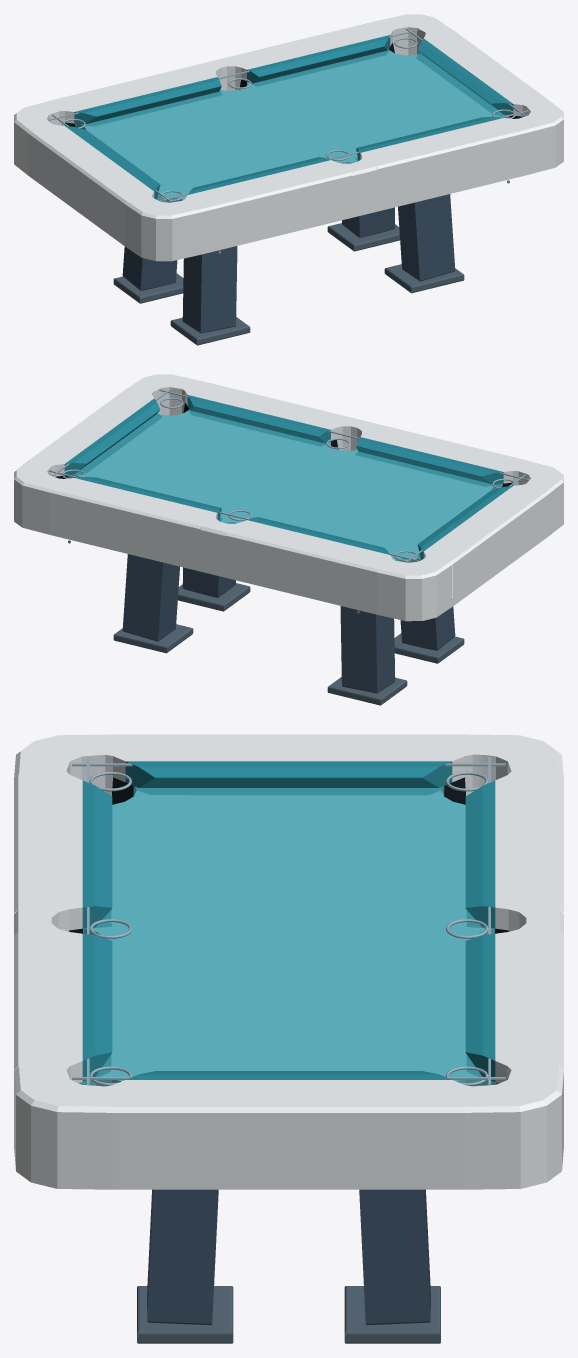
The model's file is table-eightball-5-chinese-ivory.glb.
3 views of the same model, one above another, from view 1: azimuth 30°, elevation 25°; view 2: azimuth 150°, elevation 25°; view 3: azimuth 270°, elevation 25° (orthographic). The views are drawn at different scales.
Parts seen in each view (by area): view 1: table-eightball-5-chinese-ivory, break-builder-table-support, chinese-steel-cushion-details; view 2: table-eightball-5-chinese-ivory, break-builder-table-support, chinese-steel-cushion-details; view 3: table-eightball-5-chinese-ivory, break-builder-table-support, chinese-steel-cushion-details.
Part boxes in pixels (box(x1,y1,x2,y2)): table-eightball-5-chinese-ivory: box(14, 14, 563, 261); break-builder-table-support: box(113, 194, 464, 345); chinese-steel-cushion-details: box(49, 28, 528, 202); table-eightball-5-chinese-ivory: box(14, 374, 563, 621); break-builder-table-support: box(113, 554, 464, 705); chinese-steel-cushion-details: box(49, 388, 528, 562); table-eightball-5-chinese-ivory: box(14, 734, 563, 1189); break-builder-table-support: box(137, 1189, 440, 1343); chinese-steel-cushion-details: box(72, 757, 505, 1085).
Bounding box in the file's own units: 1.64 × 0.6219 × 1.01.
32 materials, 1 textured.
